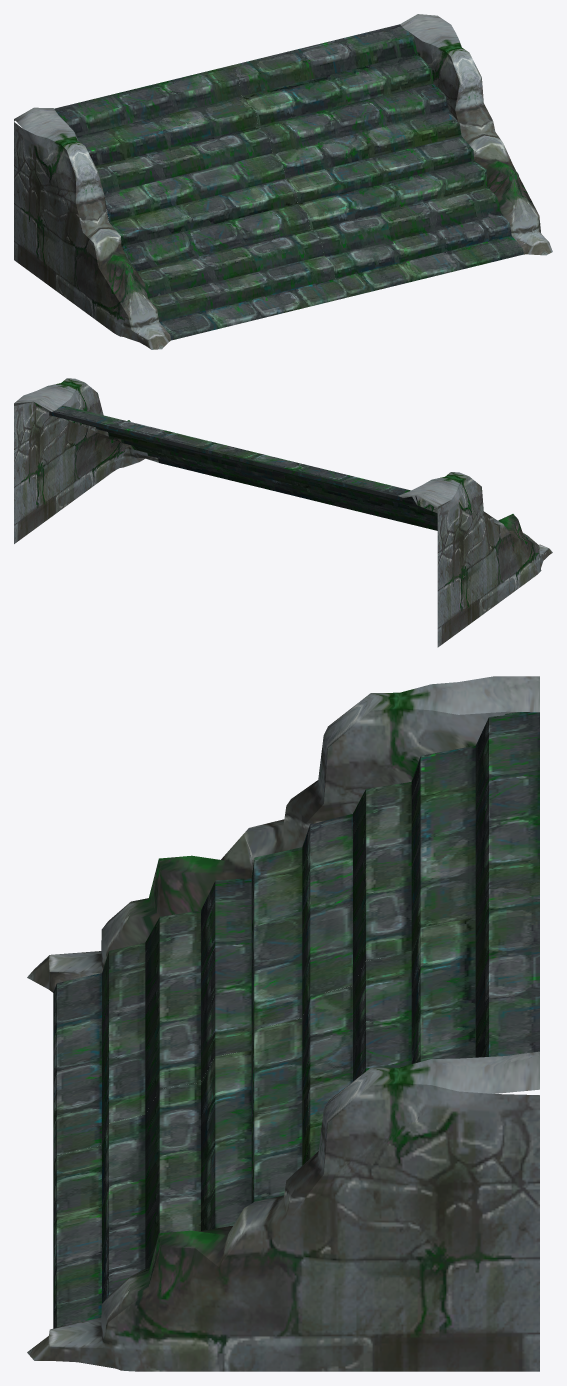
Rendered from stemple_half_stair_02.fbx.
The picture shows the model from 3 angles, top to bottom: view 1: azimuth 30°, elevation 25°; view 2: azimuth 150°, elevation 25°; view 3: azimuth 270°, elevation 25°; orthographic projection. The views are drawn at different scales.
Parts seen in each view (by area): view 1: stemple_half_stair_02-0; view 2: stemple_half_stair_02-0; view 3: stemple_half_stair_02-0.
Boxes of the visible parts, x1,y1,x2,y2 form: stemple_half_stair_02-0: (14,14,552,349); stemple_half_stair_02-0: (14,378,552,647); stemple_half_stair_02-0: (27,676,539,1371).
Size of the model in its own units: 8.91 by 2.94 by 4.63.
